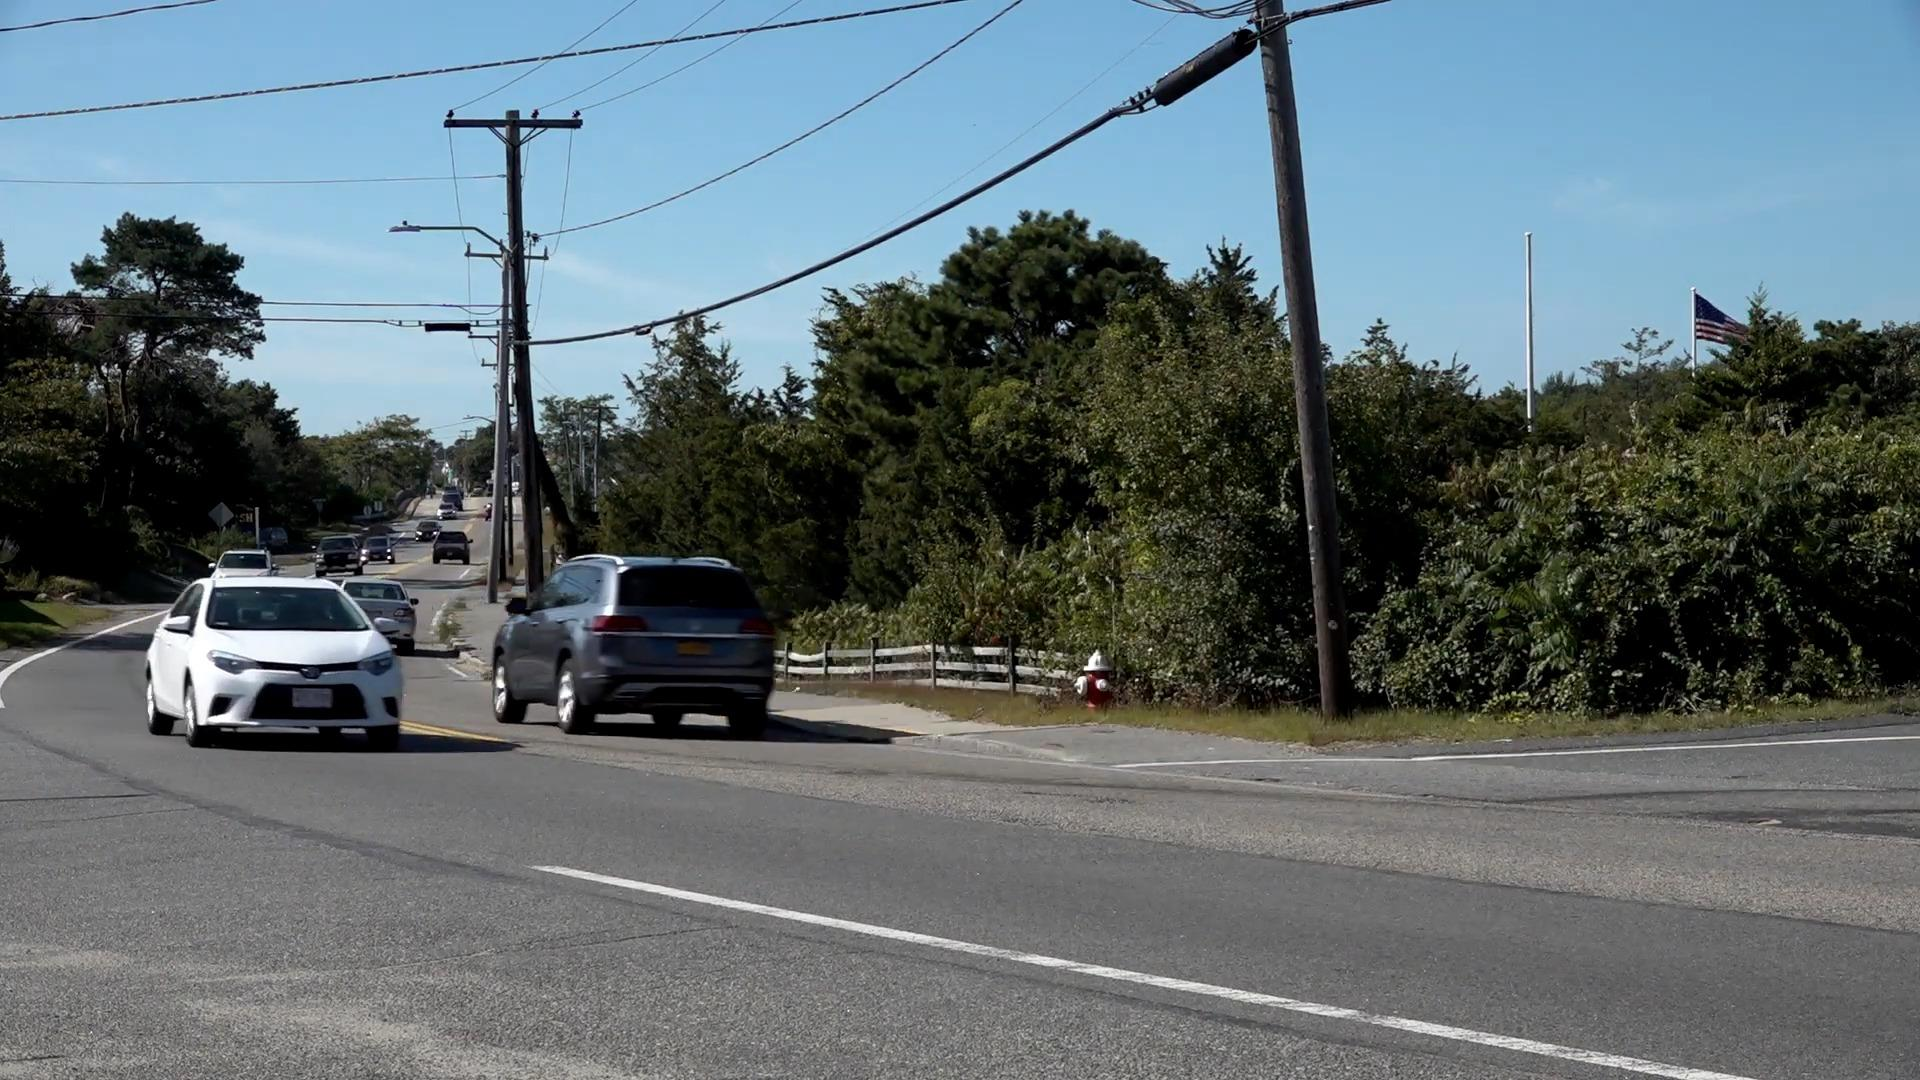sedans: (145, 568, 407, 752)
suv: (498, 555, 777, 742)
